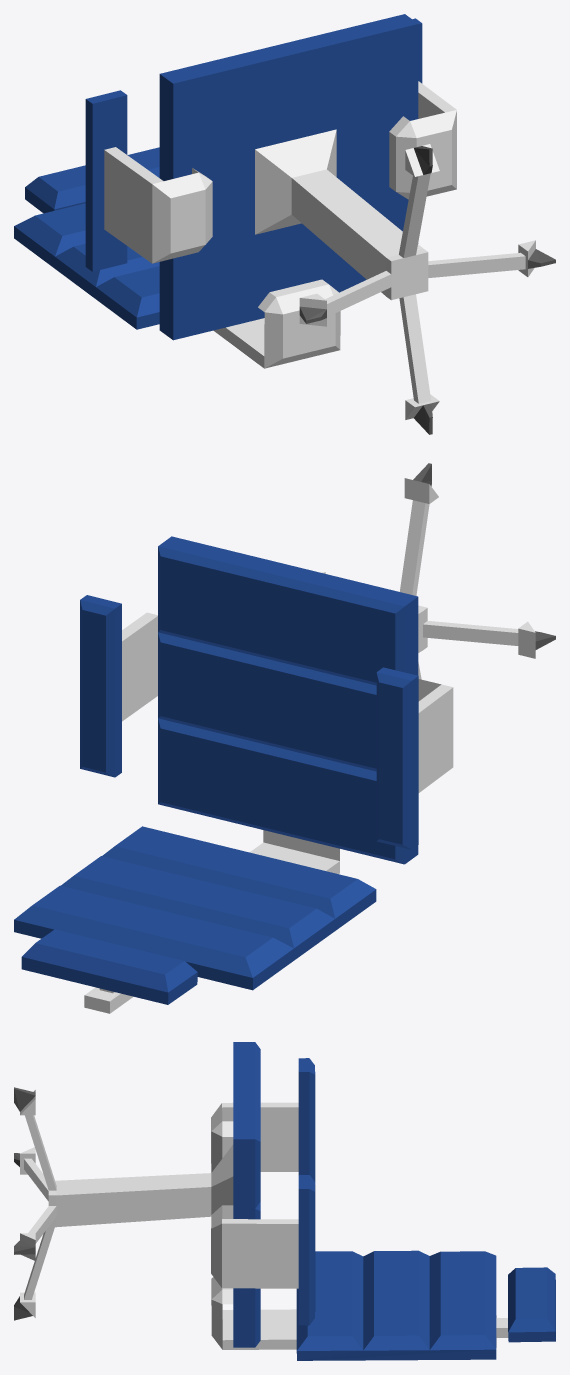
File: DesktopChair.fbx
3 renders of one model, top to bottom at view 1: azimuth 30°, elevation 25°; view 2: azimuth 150°, elevation 25°; view 3: azimuth 270°, elevation 25°, orthographic. The views are drawn at different scales.
Visible parts, largest first — view 1: Box001; view 2: Box001; view 3: Box001.
Boxes of the visible parts, bbox=[...] form: Box001: bbox=[14, 14, 555, 434]; Box001: bbox=[14, 463, 555, 1013]; Box001: bbox=[14, 1042, 555, 1360].
Size of the model in its own units: 71.51 by 63.01 by 125.
Materials: 1 (1 with a texture image).
